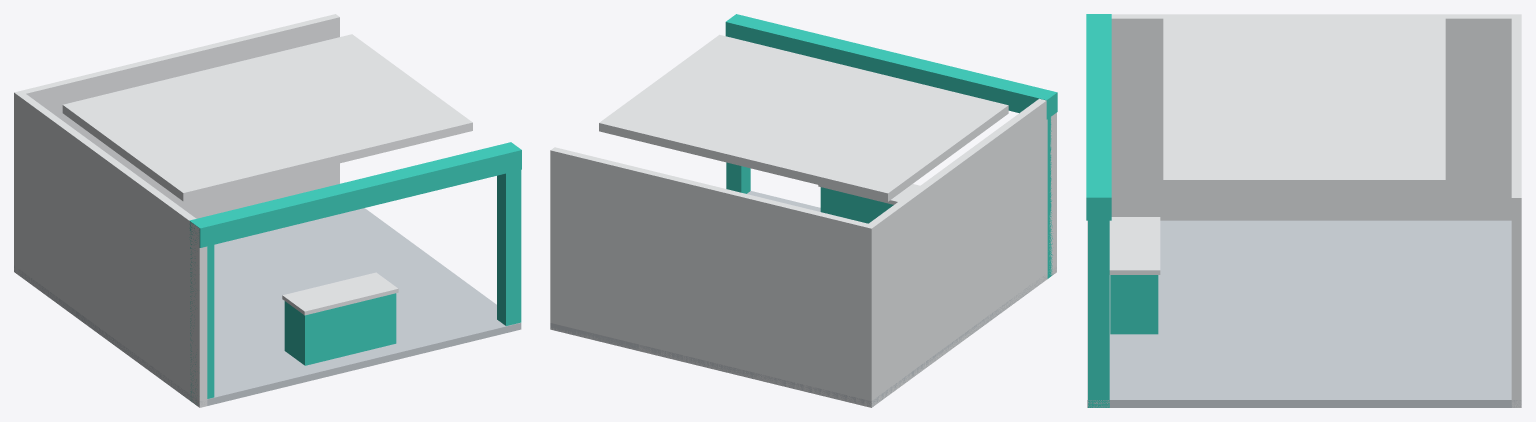
The picture shows the model from 3 angles, left to right: view 1: azimuth 30°, elevation 25°; view 2: azimuth 150°, elevation 25°; view 3: azimuth 270°, elevation 25°; orthographic projection. The views are drawn at different scales.
Parts seen in each view (by area): view 1: Exhibition Booth Concept; view 2: Exhibition Booth Concept; view 3: Exhibition Booth Concept.
Part boxes in pixels (bbox=[...]): Exhibition Booth Concept: bbox=[14, 14, 521, 407]; Exhibition Booth Concept: bbox=[550, 14, 1057, 407]; Exhibition Booth Concept: bbox=[1086, 14, 1521, 407].
Bounding box in the file's own units: 6 × 3.34 × 6.02.
